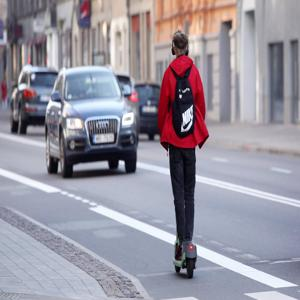human on a scooter: (157, 29, 210, 281)
